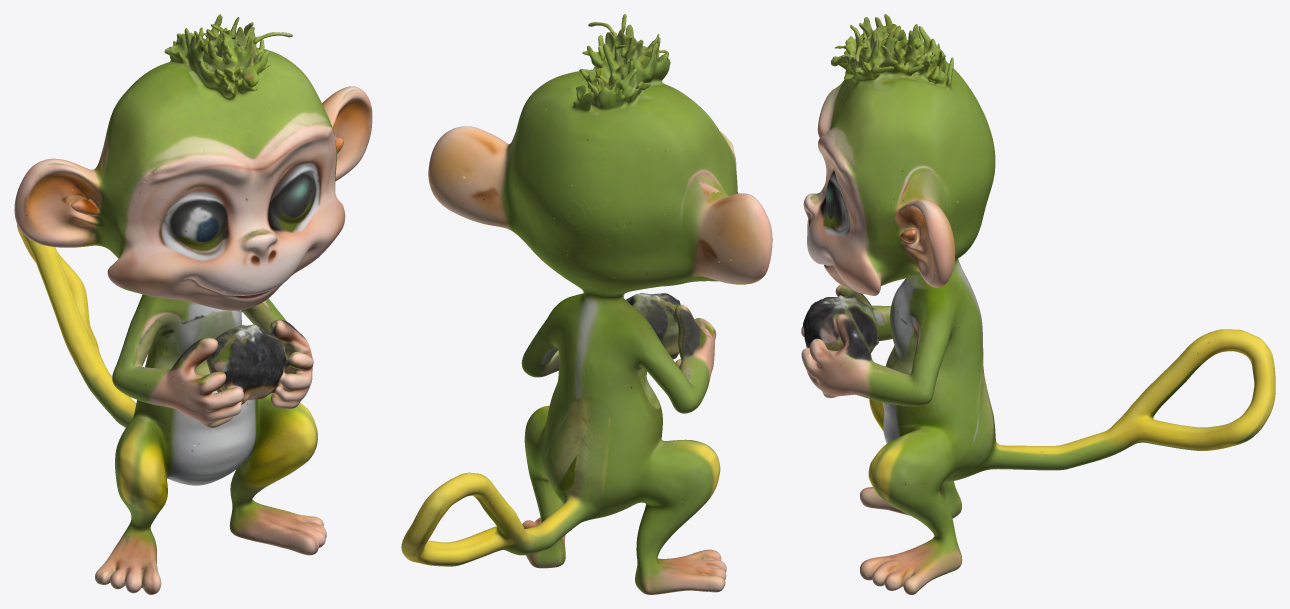
The model's file is Meshy_AI_Monkey_Muncher_0202083055_texture.fbx.
3 renders of one model, left to right at view 1: azimuth 30°, elevation 25°; view 2: azimuth 150°, elevation 25°; view 3: azimuth 270°, elevation 25°, orthographic. The views are drawn at different scales.
Parts seen in each view (by area): view 1: Mesh_0; view 2: Mesh_0; view 3: Mesh_0.
Boxes of the visible parts, bbox=[...] form: Mesh_0: bbox=[14, 14, 372, 594]; Mesh_0: bbox=[401, 14, 772, 594]; Mesh_0: bbox=[801, 14, 1275, 594].
Bounding box in the file's own units: 135 × 201 × 163.
1 material, 1 textured.
